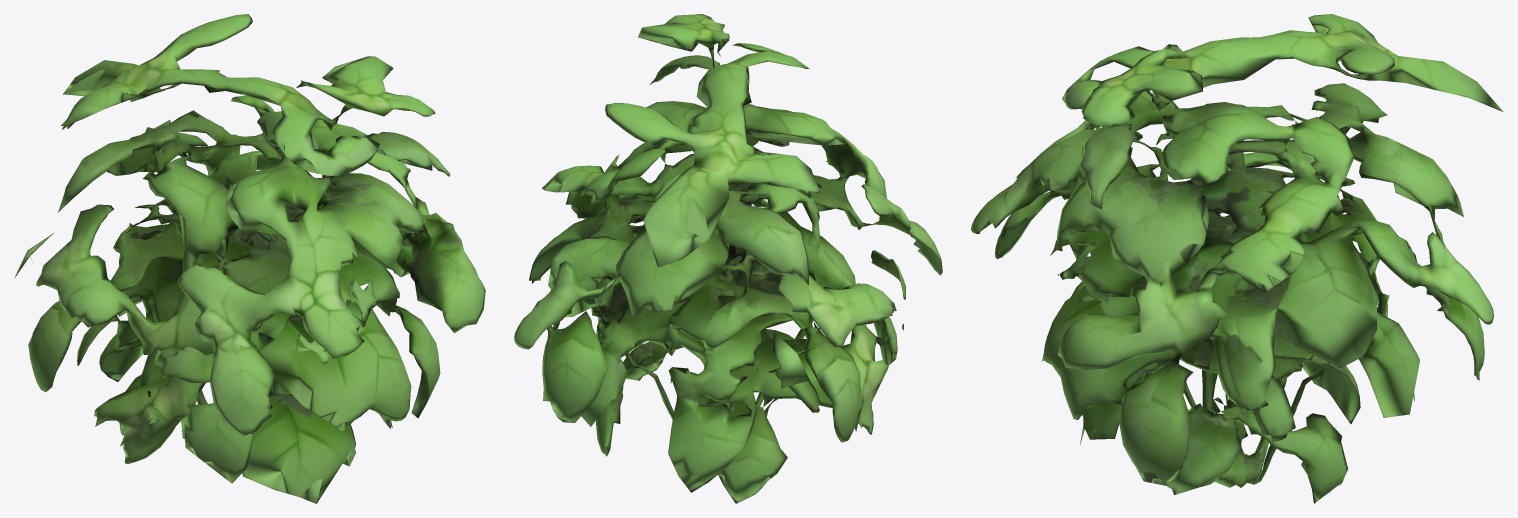
The model's file is basil_l.glb.
3 views of the same model, side by side, from view 1: azimuth 30°, elevation 25°; view 2: azimuth 150°, elevation 25°; view 3: azimuth 270°, elevation 25° (orthographic). The views are drawn at different scales.
Bounding box in the file's own units: 1.71 × 1.88 × 2.
1 material, 1 textured.
